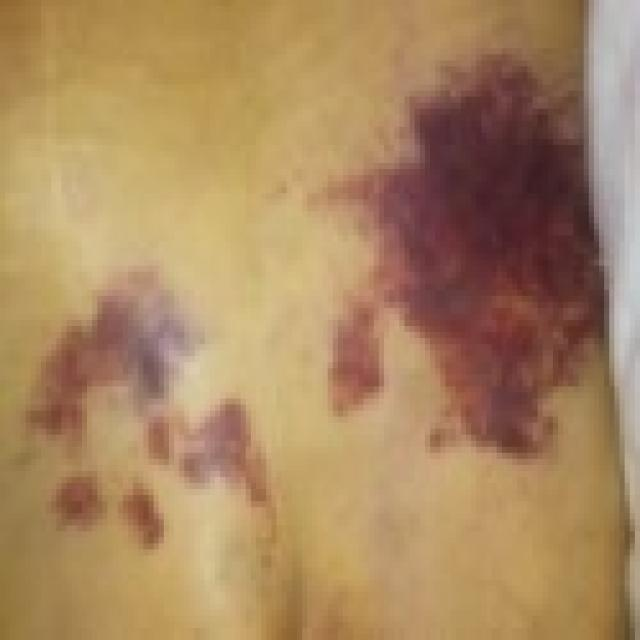DTI: (313, 59, 610, 461), (24, 269, 273, 520), (45, 477, 102, 529), (124, 489, 165, 548)
